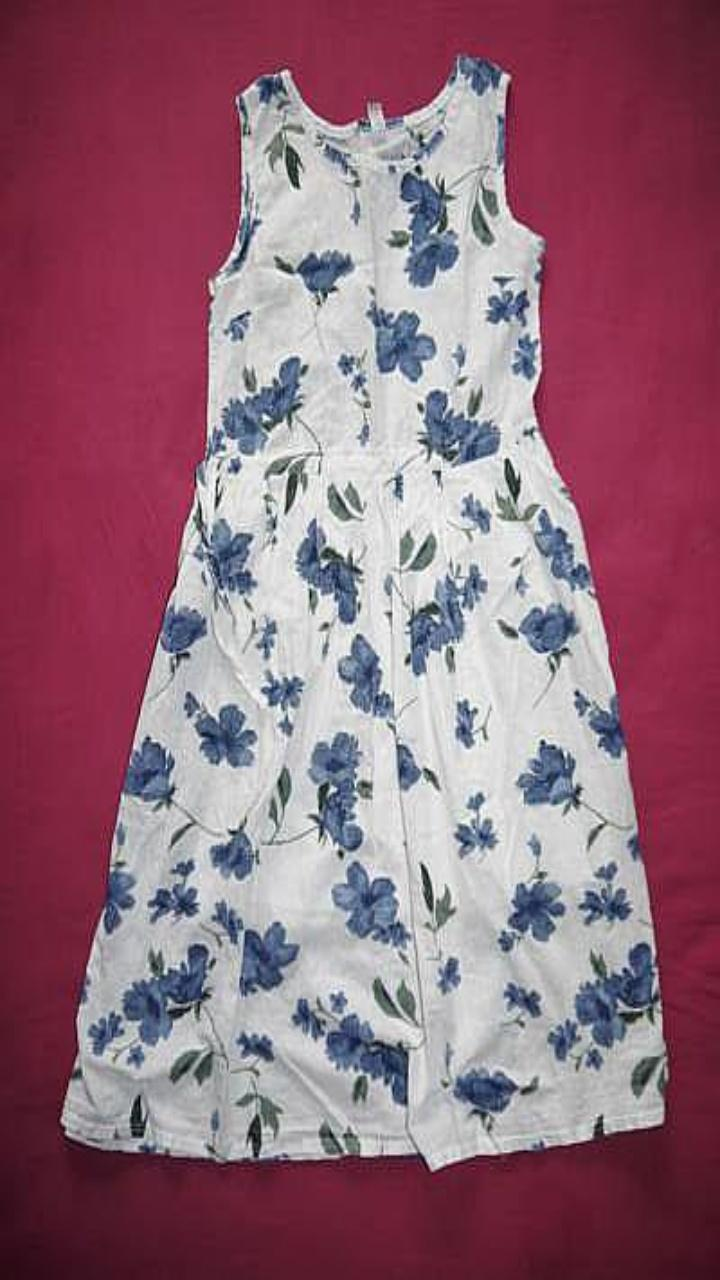Dresses: (61, 54, 667, 1169)
